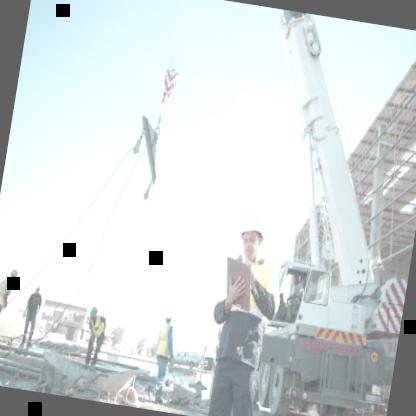helmet: (233, 212, 268, 266), (8, 264, 20, 284), (162, 308, 174, 326), (88, 302, 100, 320), (32, 282, 41, 297)
